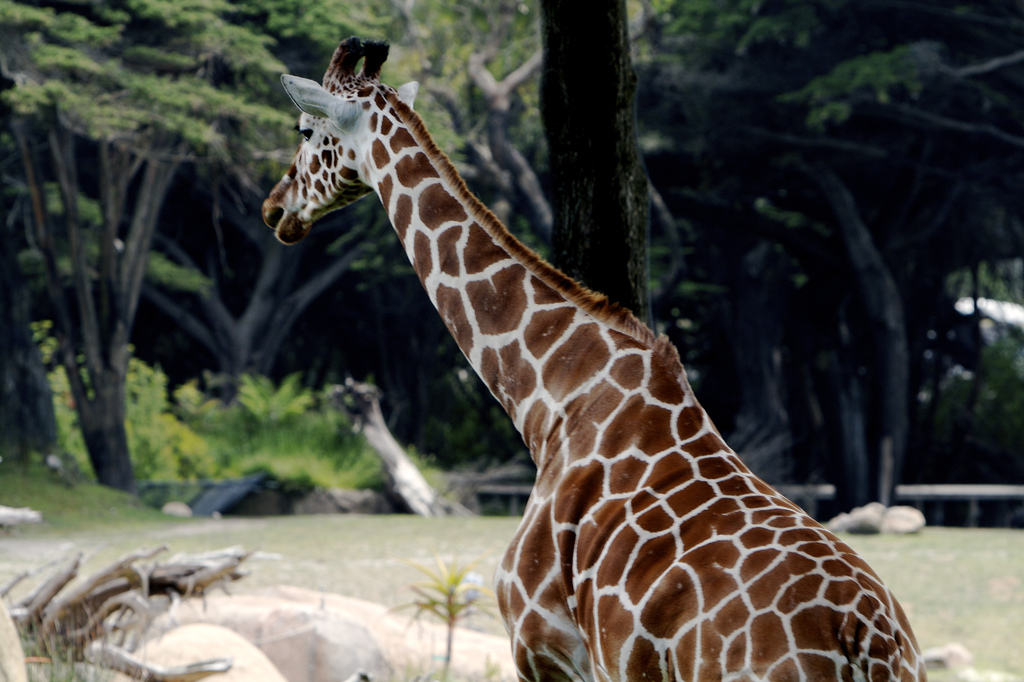giraffe: (255, 40, 888, 682)
